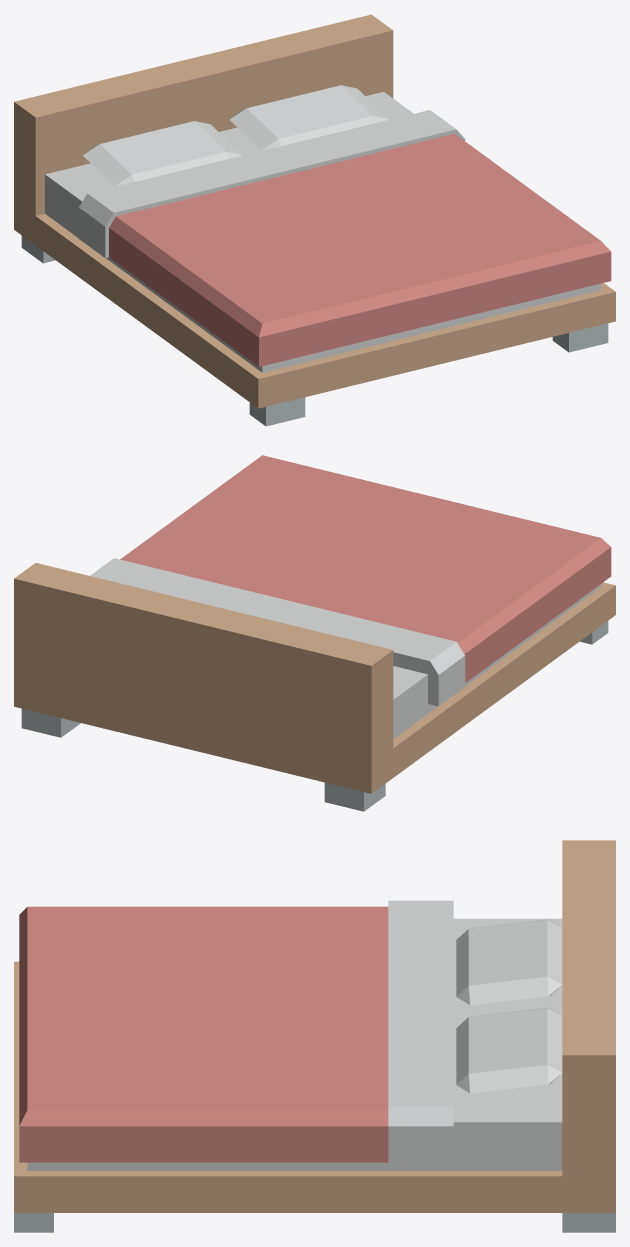
Rendered from bed.glb.
The picture shows the model from 3 angles, top to bottom: view 1: azimuth 30°, elevation 25°; view 2: azimuth 150°, elevation 25°; view 3: azimuth 270°, elevation 25°; orthographic projection. The views are drawn at different scales.
Visible parts, largest first — view 1: cover, bedDouble(Clone), pillowRight, pillowLeft; view 2: bedDouble(Clone), cover; view 3: cover, bedDouble(Clone), pillowRight, pillowLeft.
Part boxes in pixels (bbox=[...]): cover: bbox=[78, 110, 611, 366]; bedDouble(Clone): bbox=[14, 14, 615, 426]; pillowRight: bbox=[229, 85, 388, 150]; pillowLeft: bbox=[83, 121, 241, 186]; bedDouble(Clone): bbox=[14, 563, 615, 811]; cover: bbox=[90, 455, 611, 706]; cover: bbox=[19, 900, 453, 1164]; bedDouble(Clone): bbox=[14, 840, 615, 1232]; pillowRight: bbox=[456, 1007, 562, 1093]; pillowLeft: bbox=[456, 919, 562, 1005].
Size of the model in its own units: 0.95 by 0.3726 by 1.12.
